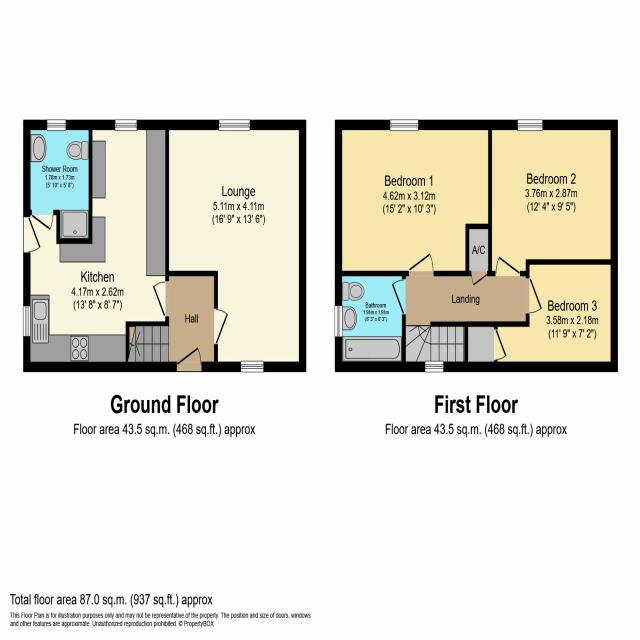DOOR: (23, 216, 42, 253), (175, 346, 202, 372), (526, 276, 543, 315), (152, 280, 169, 318), (408, 252, 434, 276), (214, 307, 229, 346), (495, 255, 521, 277), (391, 278, 406, 316), (31, 210, 54, 231)
ROOM: (23, 119, 170, 373), (165, 119, 307, 373), (334, 119, 493, 277), (488, 119, 618, 277), (464, 259, 618, 372)
WINDOW: (218, 118, 251, 132), (389, 118, 419, 132), (517, 119, 543, 132), (240, 360, 264, 373), (114, 119, 137, 132), (334, 305, 343, 338), (46, 118, 67, 132), (424, 360, 444, 374), (23, 305, 31, 338)
